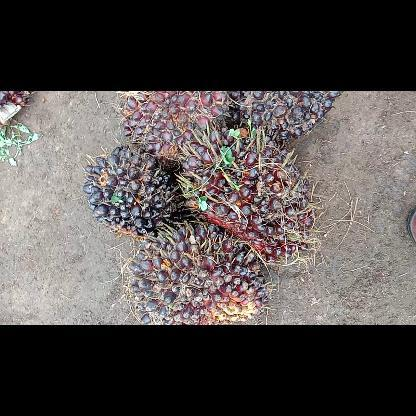TBS mentah: (177, 127, 317, 267), (125, 218, 271, 324), (80, 141, 190, 240), (117, 91, 231, 167), (224, 91, 344, 149)
